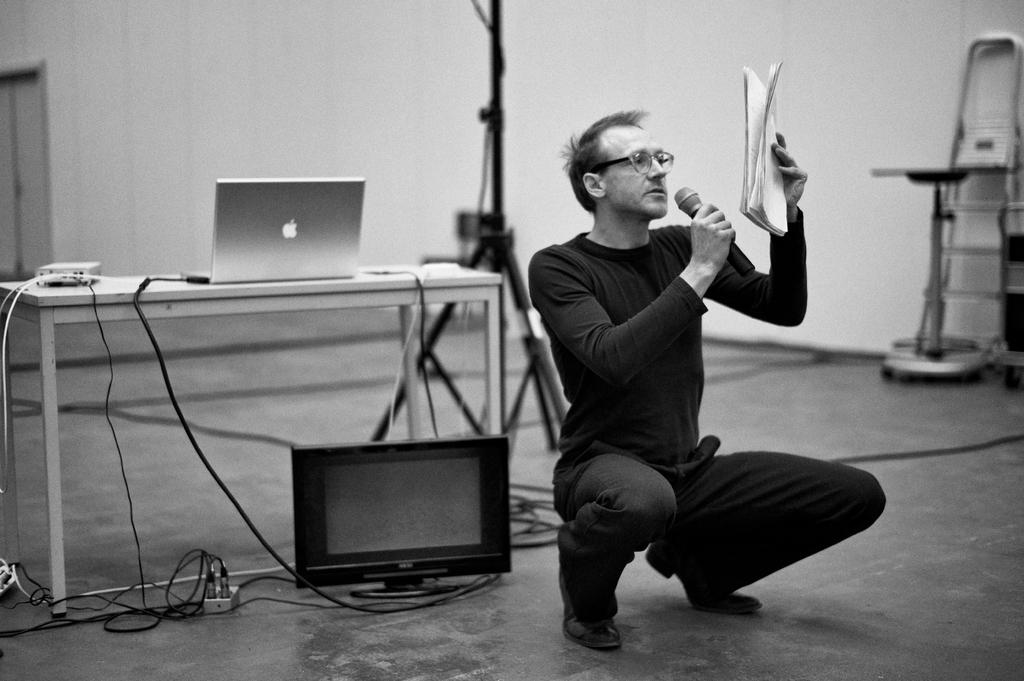Computer-monitor: (294, 451, 509, 595)
